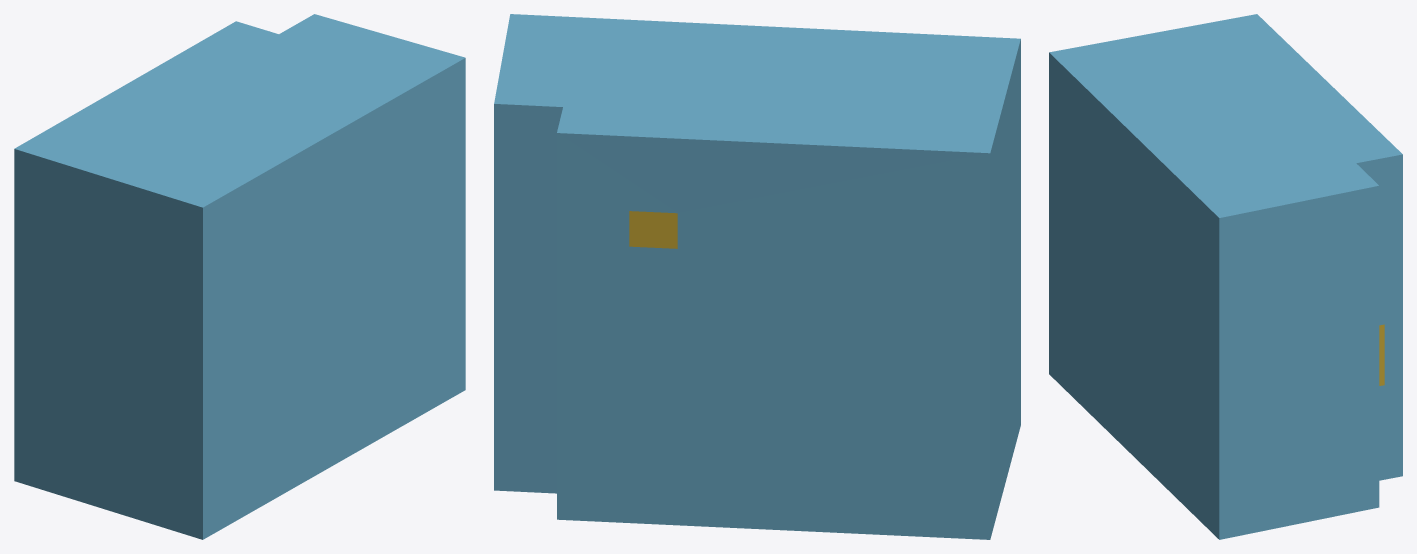
Rendered from bldg_dd6b5738-8bff-4ec6-b4b4-3d92a6982f73.obj.
3 renders of one model, left to right at view 1: azimuth 30°, elevation 25°; view 2: azimuth 150°, elevation 25°; view 3: azimuth 270°, elevation 25°, orthographic. The views are drawn at different scales.
Size of the model in its own units: 10.38 by 7.63 by 7.61.
